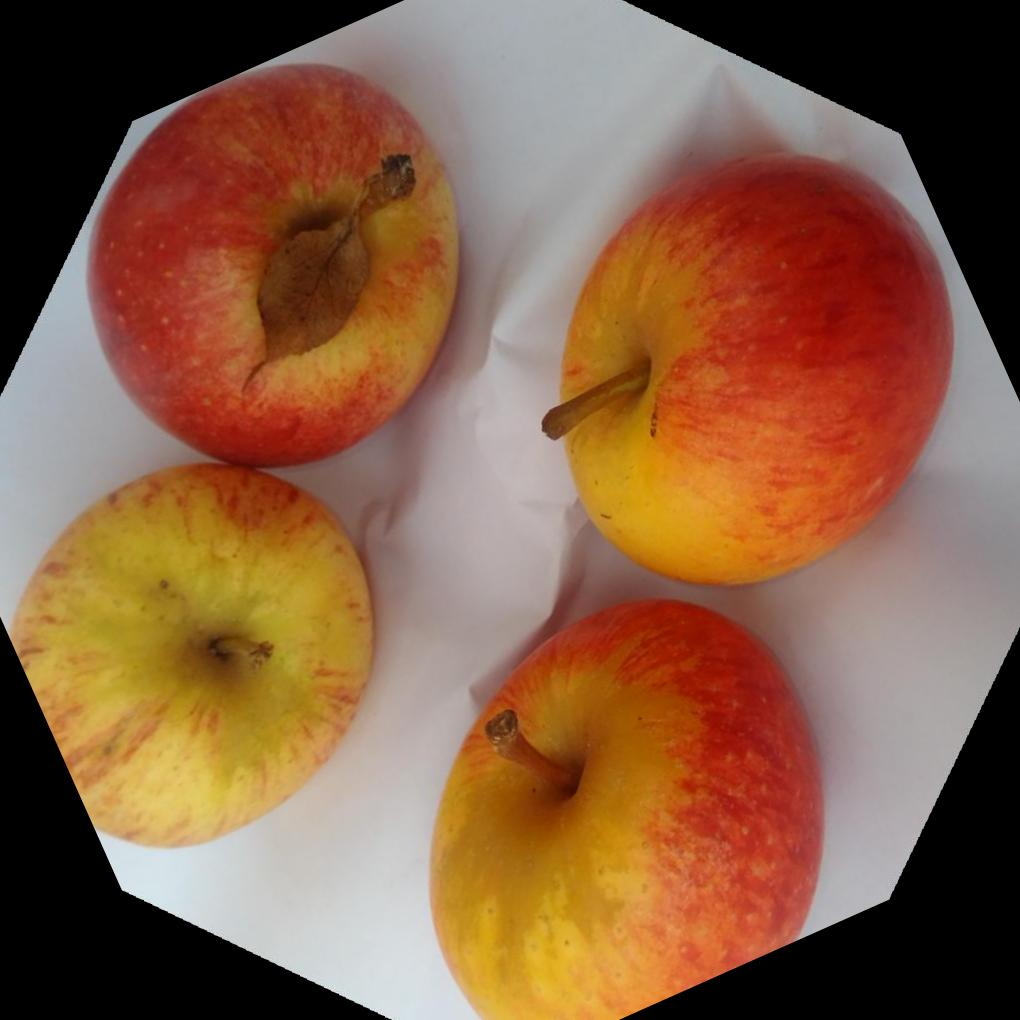FreshGuava: (5, 60, 459, 846), (540, 147, 953, 586), (426, 594, 823, 1020)
